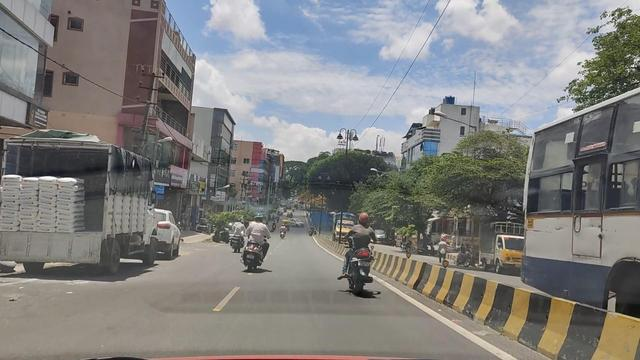HMV: (2, 123, 164, 269)
LMV: (332, 209, 394, 309), (229, 201, 270, 275)
